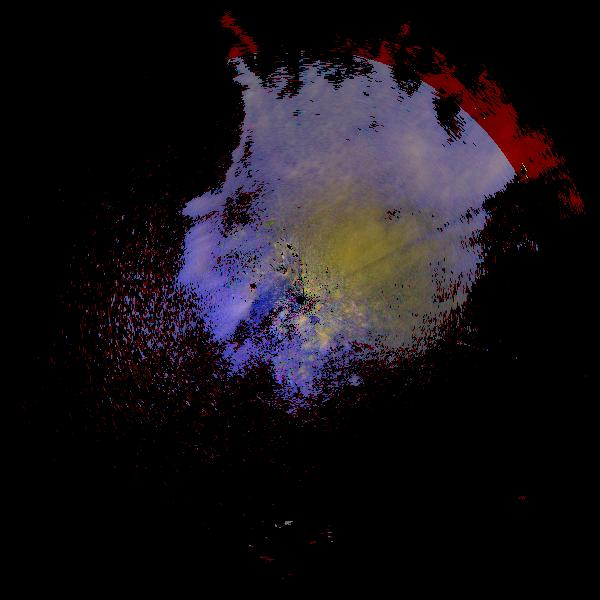roost: (334, 298, 370, 334), (309, 327, 339, 357), (288, 365, 312, 389)
